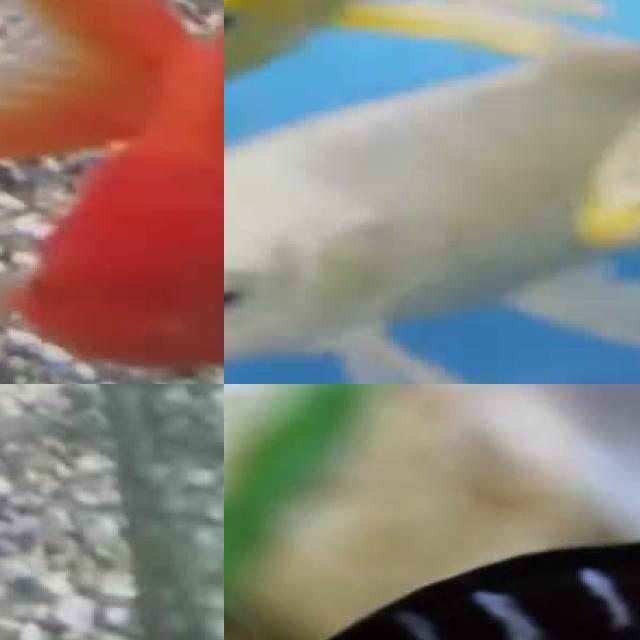fish: (0, 0, 224, 384), (224, 470, 640, 640)
